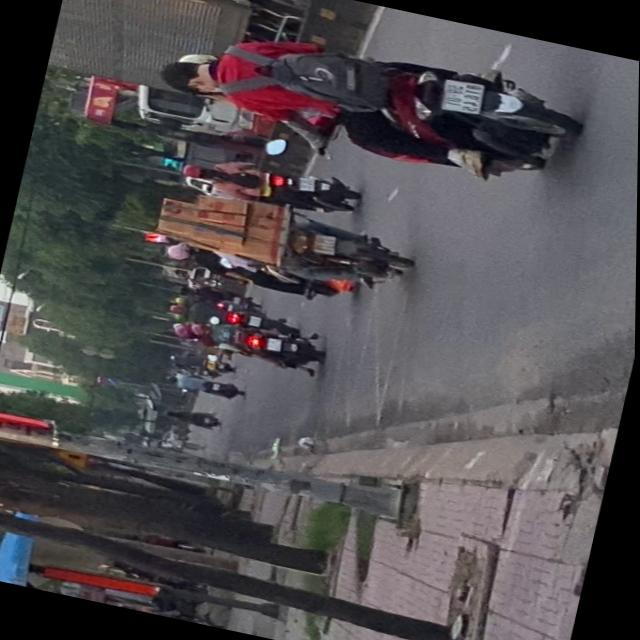licenseplate: (142, 0, 593, 203), (150, 182, 418, 306)
motorcyclist: (154, 52, 226, 98)
nohelmet: (438, 76, 481, 114), (310, 232, 335, 254)
